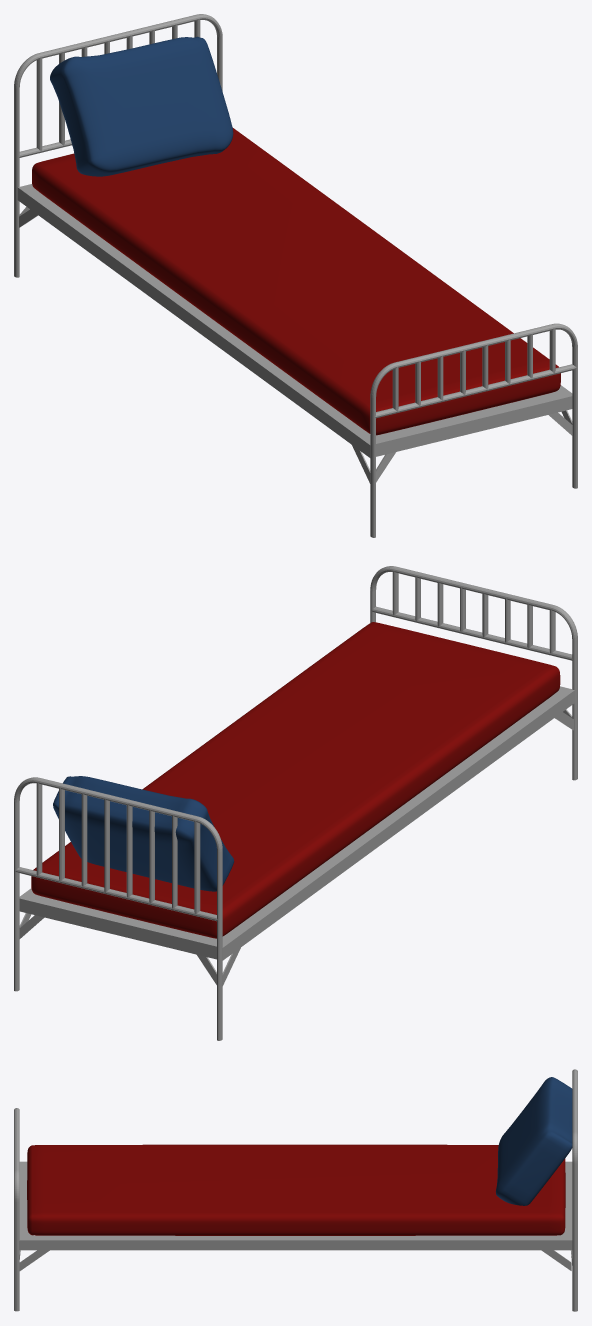
The model's file is Bed.fbx.
3 renders of one model, top to bottom at view 1: azimuth 30°, elevation 25°; view 2: azimuth 150°, elevation 25°; view 3: azimuth 270°, elevation 25°, orthographic. The views are drawn at different scales.
Visible parts, largest first — view 1: Cube.002, Steel, Pillow; view 2: Cube.002, Steel, Pillow; view 3: Cube.002, Steel, Pillow.
Boxes of the visible parts, x1,y1,x2,y2 form: Cube.002: [32, 128, 560, 435]; Steel: [14, 14, 577, 537]; Pillow: [50, 36, 233, 176]; Cube.002: [31, 622, 560, 938]; Steel: [14, 566, 577, 1040]; Pillow: [53, 776, 234, 891]; Cube.002: [27, 1144, 565, 1235]; Steel: [14, 1069, 577, 1311]; Pillow: [495, 1077, 572, 1205].
Size of the model in its own units: 100 by 101 by 300.
